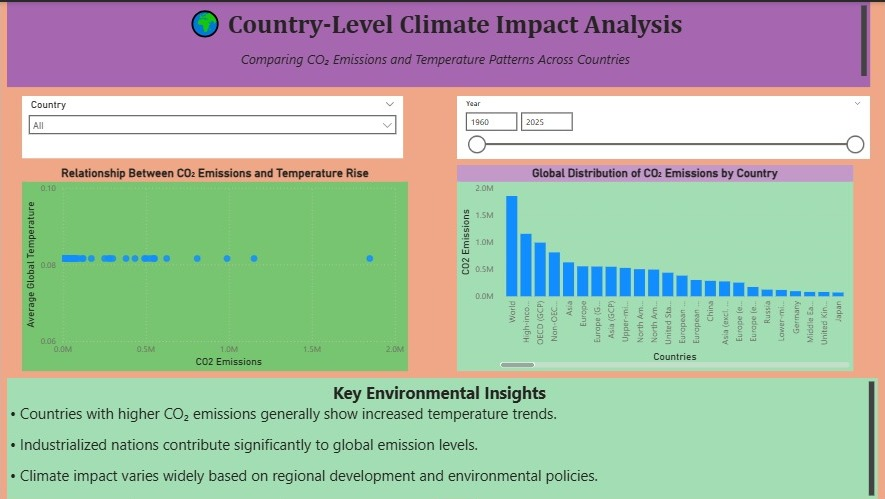

The dashboard page shown, as its layout file describes it:
{"tool":"powerbi","page":{"name":"Country Comparison","canvas":[1280,720],"ordinal":1},"visuals":[{"type":"columnChart","title":"Global Distribution of CO₂ Emissions by Country","fields":{"Category":["co2_emissions.Country"],"Y":["Sum(co2_emissions.CO2 Emissions)"]},"box":[660.7,235.7,572.5,297.8],"z":0},{"type":"scatterChart","title":"Relationship Between CO₂ Emissions and Temperature Rise","fields":{"X":["Sum(co2_emissions.CO2 Emissions)"],"Y":["CountryTable.Average Global Temperature"],"Category":["co2_emissions.Country"]},"box":[31.8,235.7,558.1,297.8],"z":1000},{"type":"textbox","box":[10.1,0,1248.1,122.6],"z":2000},{"type":"slicer","fields":{"Values":["CountryTable.Country"]},"box":[32.3,135.2,551,89.6],"z":2001},{"type":"slicer","fields":{"Values":["DateTable.Year"]},"box":[661.2,135.2,596.6,89.6],"z":2002},{"type":"textbox","box":[10.3,543.7,1259.3,176.3],"z":2003}]}

Visuals, with their boxes in screenshot pixels (x1, y1, x2, y2), scaled from the page's 1280x720 canvas onto the 885x499 screenshot:
"Global Distribution of CO₂ Emissions by Country" columnChart: x1=457, y1=163, x2=853, y2=370
"Relationship Between CO₂ Emissions and Temperature Rise" scatterChart: x1=22, y1=163, x2=408, y2=370
textbox: x1=7, y1=0, x2=870, y2=85
slicer - CountryTable.Country: x1=22, y1=94, x2=403, y2=156
slicer - DateTable.Year: x1=457, y1=94, x2=870, y2=156
textbox: x1=7, y1=377, x2=878, y2=498
